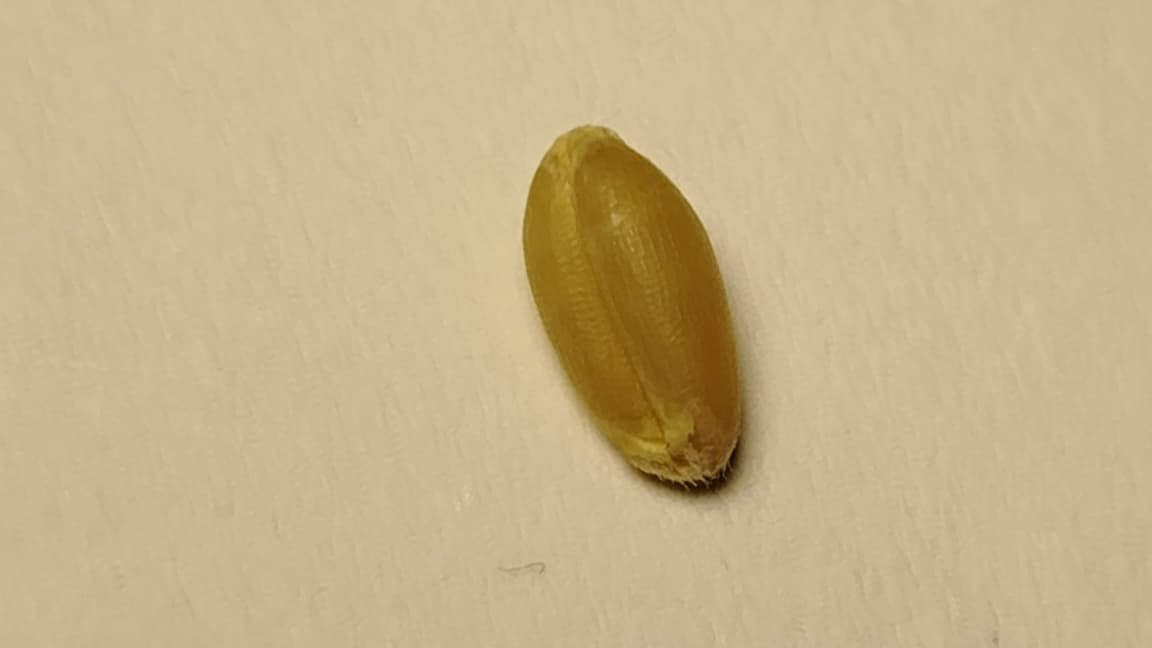healthy: (523, 127, 741, 484)
